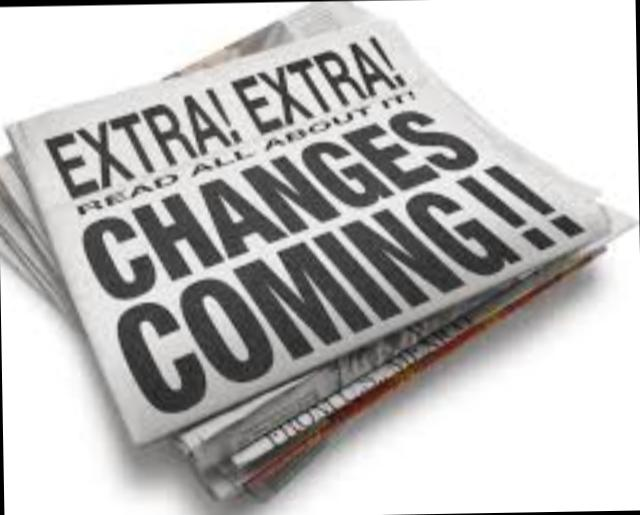cardboard paper: (0, 0, 629, 495)
